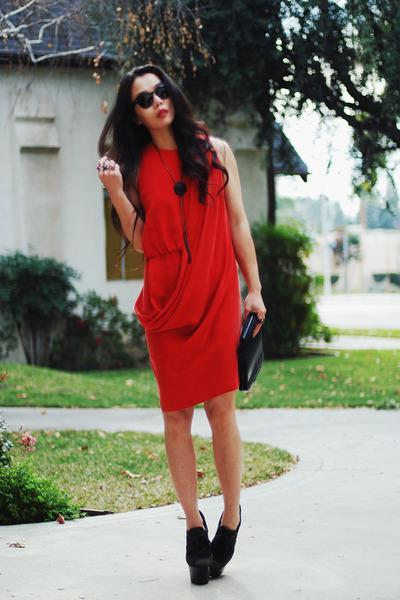dress: (132, 128, 250, 413)
